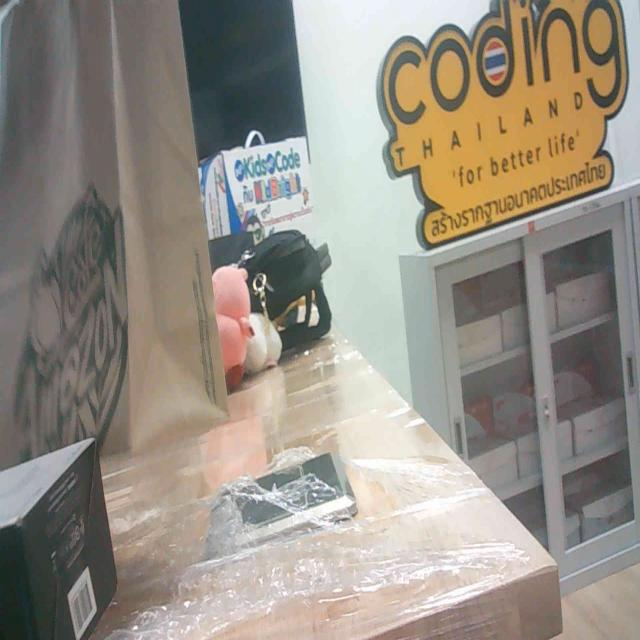bag: (0, 0, 219, 466)
